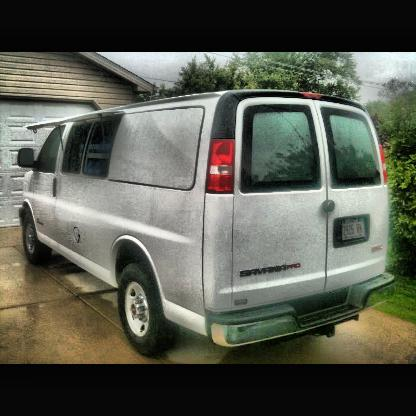GMC Savana Van 2012: (18, 91, 396, 357)
